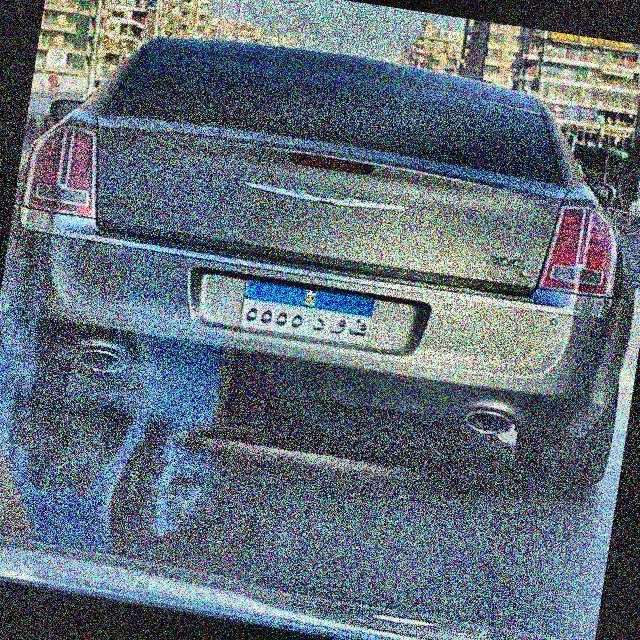License Plate: (236, 276, 378, 351)
